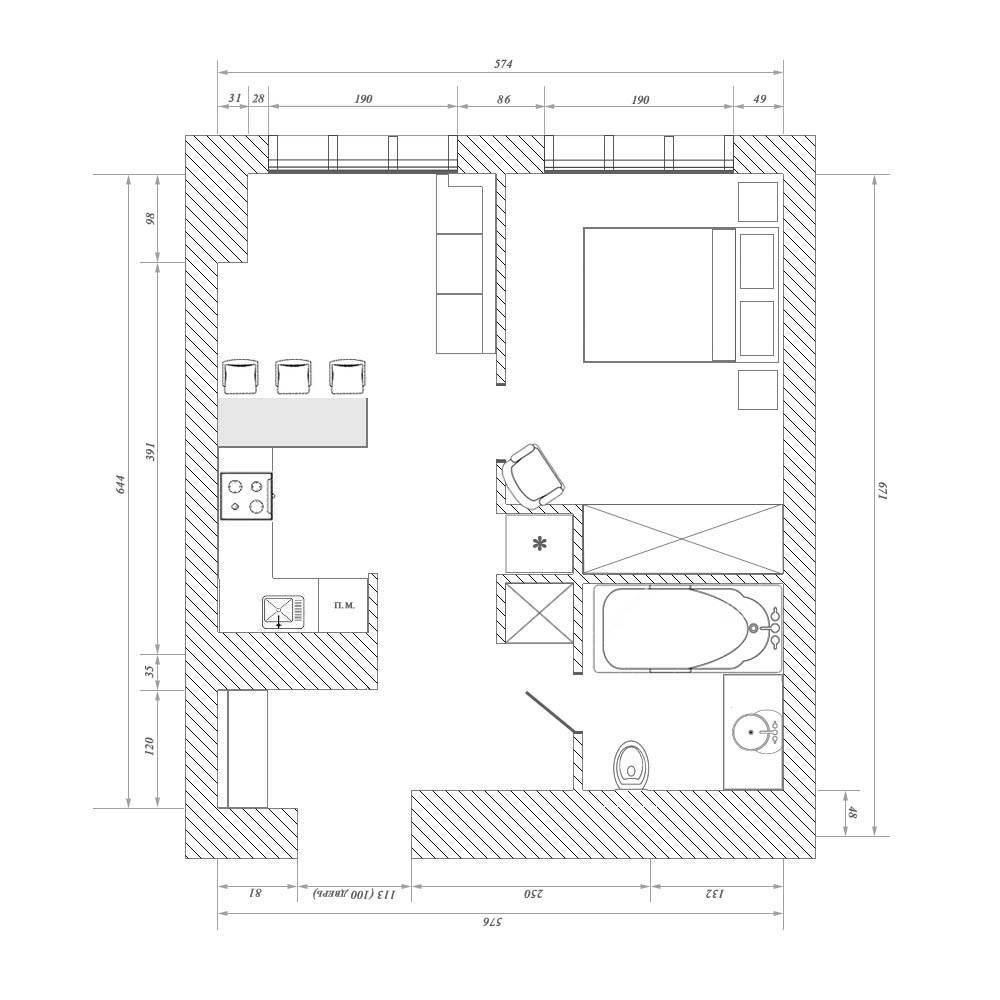bathroom: (581, 584, 786, 791)
bedroom: (504, 173, 786, 573)
hallway: (219, 577, 576, 861)
kitchen: (217, 444, 497, 634)
living_room: (216, 174, 499, 446)
utility_room: (501, 517, 574, 576)
walk_in_closet: (506, 583, 576, 643)
